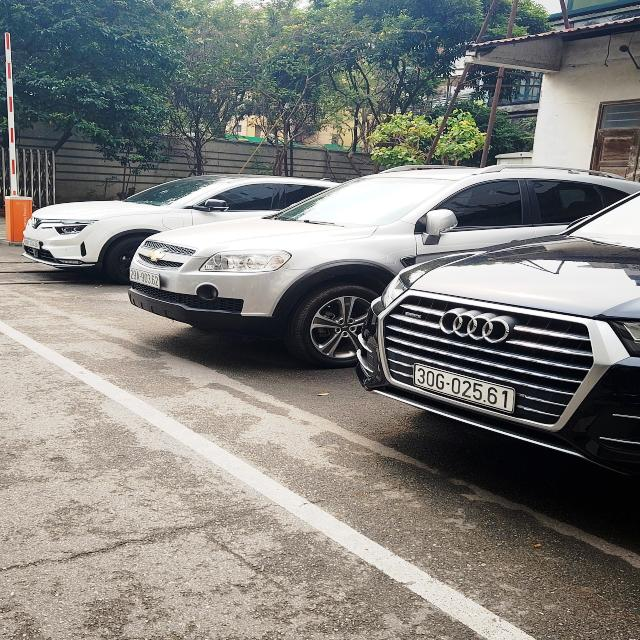license_plate: (414, 366, 514, 414)
